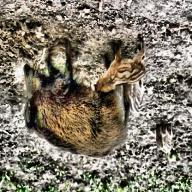boar: (6, 38, 133, 163), (95, 40, 148, 113)
